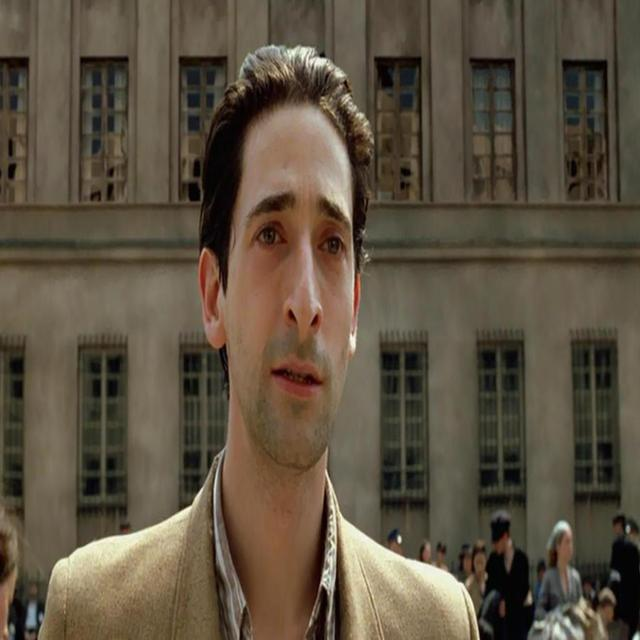no-earmuff: (186, 221, 243, 367), (346, 253, 367, 394)
